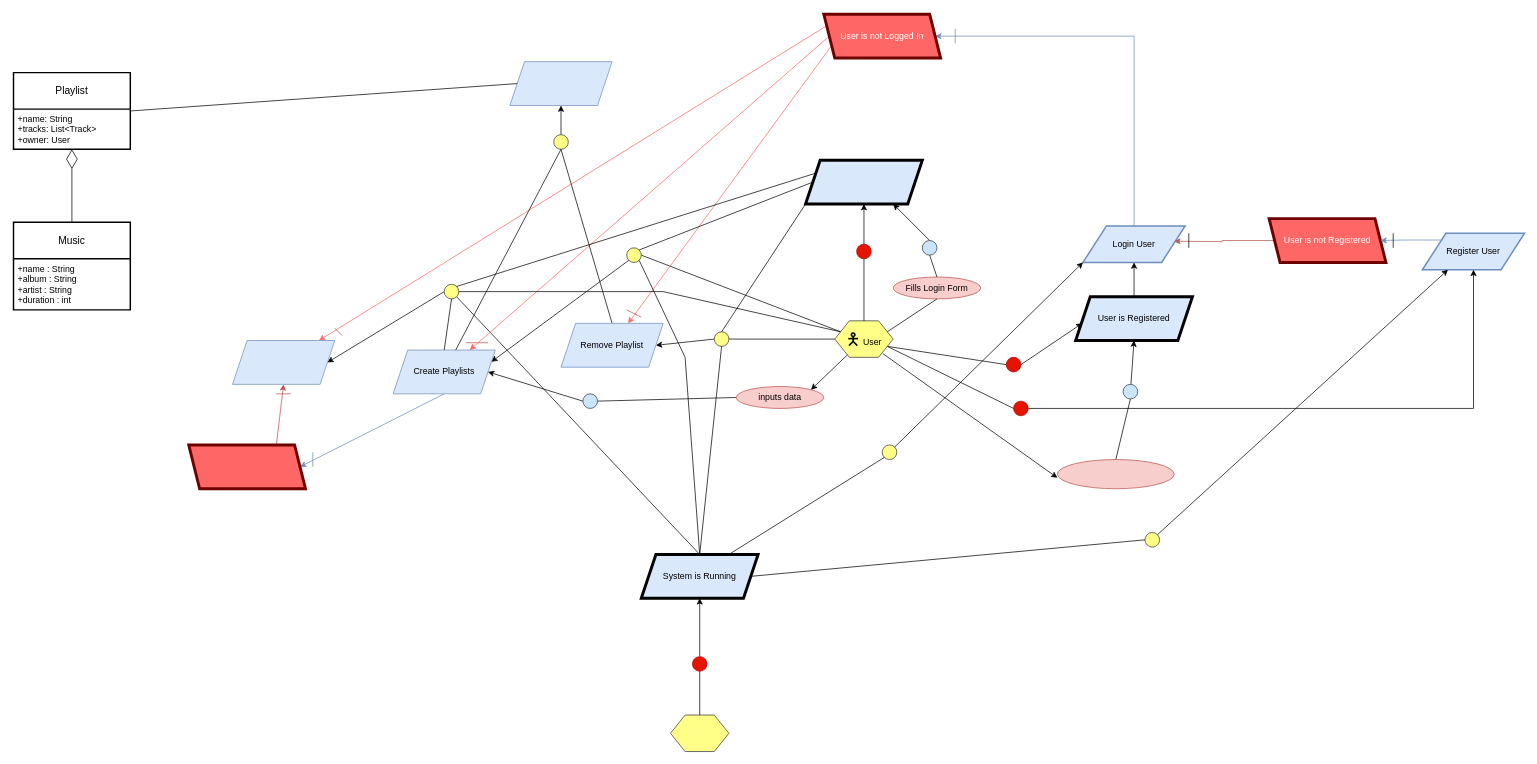
The diagram is 1537 pixels wide and 764 high, and some of its shapes have lost their labels. Each missing label, with the centre of its shape:
"Fills Registration Form" goes at [1115,474].
"List Playlists" goes at [283,362].
"Manage Playlists" goes at [560,83].
"No playlists" goes at [247,466].
"System" goes at [699,733].
"User is Logged In" goes at [863,181].
